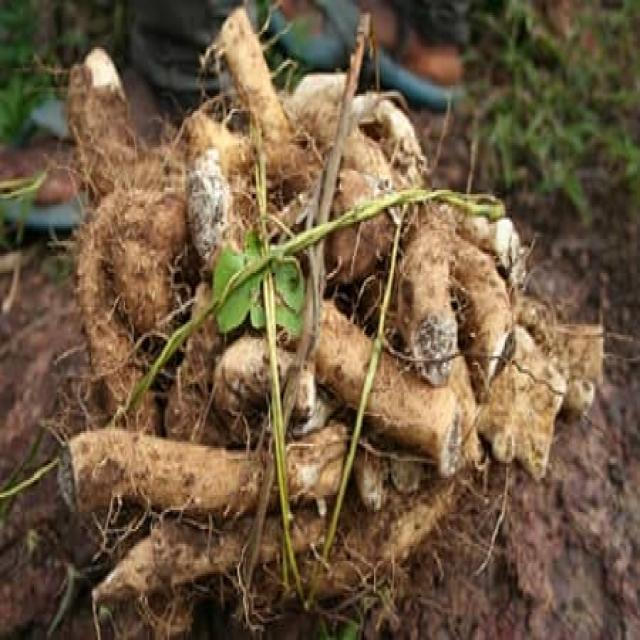Yam: (386, 208, 605, 543), (33, 79, 222, 414), (215, 15, 402, 334), (0, 394, 337, 570), (308, 195, 461, 447)
